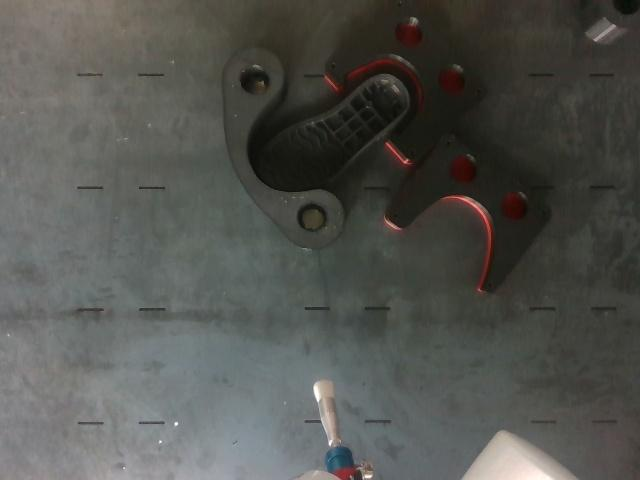shoes: (257, 75, 408, 190)
